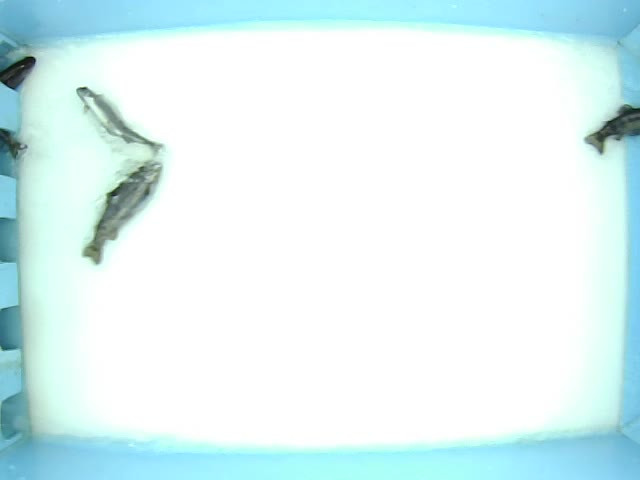fish: (85, 154, 169, 267), (79, 83, 187, 156)
